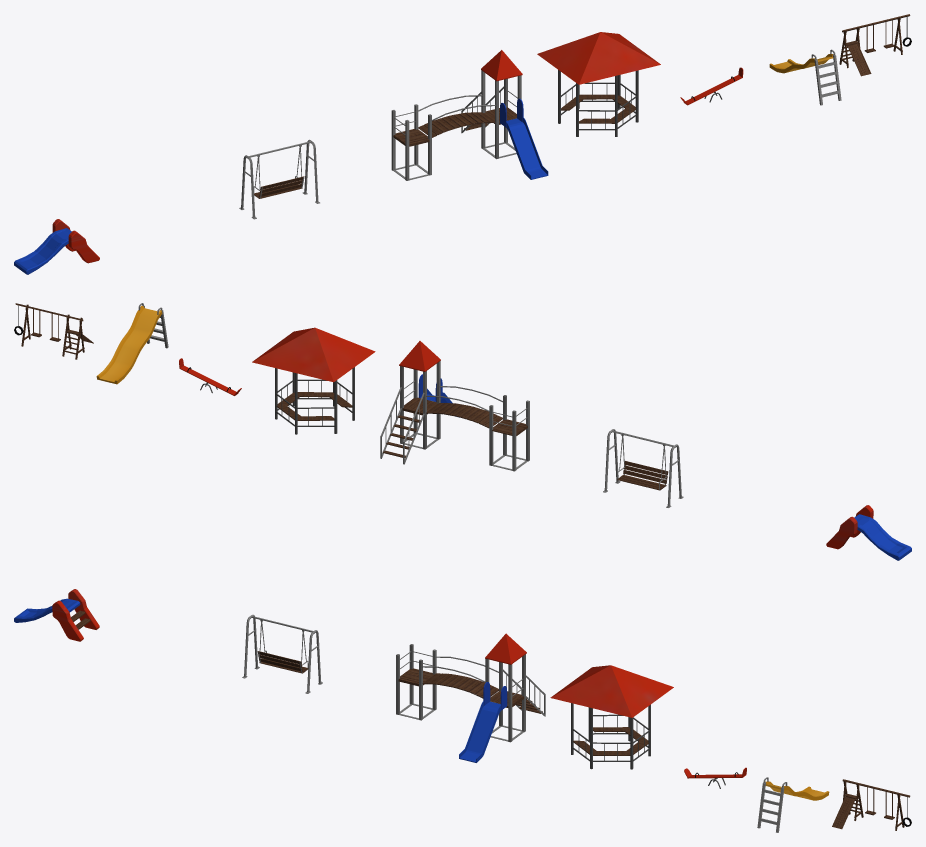
File: RIDES.fbx
3 views of the same model, one above another, from view 1: azimuth 30°, elevation 25°; view 2: azimuth 150°, elevation 25°; view 3: azimuth 330°, elevation 25° (orthographic).
Visible parts, largest first — view 1: model_0.002, model_0.003, model_0.010, model_0.007, Object_4, Cube.010__0; view 2: model_0.002, model_0.003, Cube.010__0, model_0.007, model_0.010, Object_4; view 3: model_0.002, model_0.003, model_0.010, model_0.007, Object_4, Cube.010__0.
Boxes of the visible parts, bbox=[...] form: model_0.002: bbox=[391, 50, 548, 180]; model_0.003: bbox=[537, 32, 660, 136]; model_0.010: bbox=[14, 219, 99, 274]; model_0.007: bbox=[239, 139, 319, 219]; Object_4: bbox=[839, 14, 911, 76]; Cube.010__0: bbox=[769, 49, 841, 105]; model_0.002: bbox=[380, 341, 529, 471]; model_0.003: bbox=[252, 327, 375, 434]; Cube.010__0: bbox=[96, 303, 168, 384]; model_0.007: bbox=[603, 429, 683, 507]; model_0.010: bbox=[826, 505, 911, 560]; Object_4: bbox=[14, 303, 93, 359]; model_0.002: bbox=[396, 633, 545, 762]; model_0.003: bbox=[550, 665, 673, 769]; model_0.010: bbox=[14, 589, 99, 641]; model_0.007: bbox=[242, 614, 322, 693]; Object_4: bbox=[832, 779, 911, 830]; Cube.010__0: bbox=[757, 777, 829, 832].
Bounding box in the file's own units: 2634 × 286 × 338.
